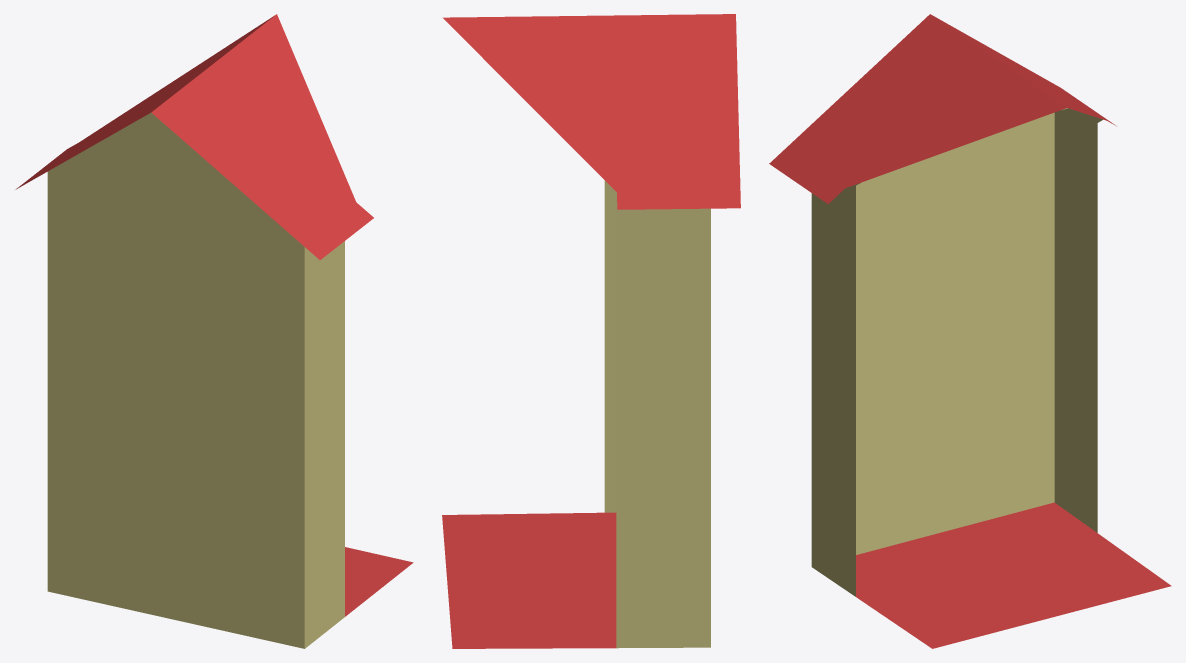
3 renders of one model, left to right at view 1: azimuth 30°, elevation 25°; view 2: azimuth 150°, elevation 25°; view 3: azimuth 270°, elevation 25°, orthographic. The views are drawn at different scales.
Bounding box in the file's own units: 6.81 × 7.2 × 10.02.
